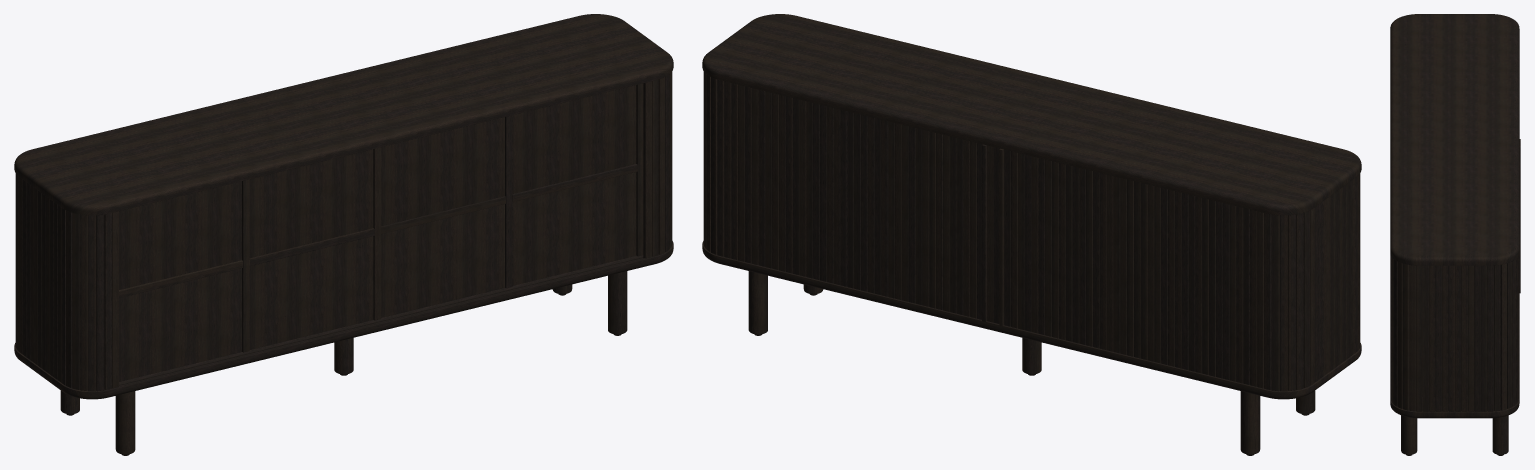
Rendered from Cabin.glb.
3 renders of one model, left to right at view 1: azimuth 30°, elevation 25°; view 2: azimuth 150°, elevation 25°; view 3: azimuth 270°, elevation 25°, orthographic. The views are drawn at different scales.
Visible parts, largest first — view 1: Object003; view 2: Object003; view 3: Object003.
Boxes of the visible parts, x1,y1,x2,y2 form: Object003: [14, 14, 673, 455]; Object003: [702, 14, 1361, 455]; Object003: [1390, 14, 1520, 455].
Bounding box in the file's own units: 7.16 × 2.98 × 1.61.
1 material, 1 textured.
